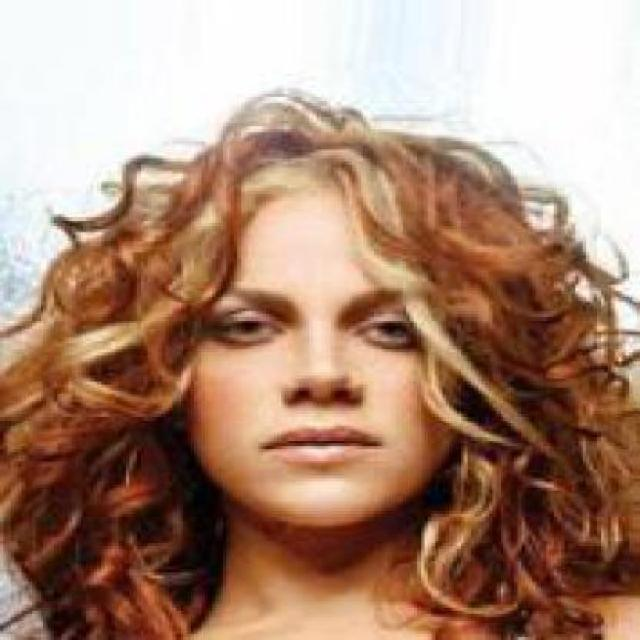closed-mouth: (254, 419, 396, 470)
